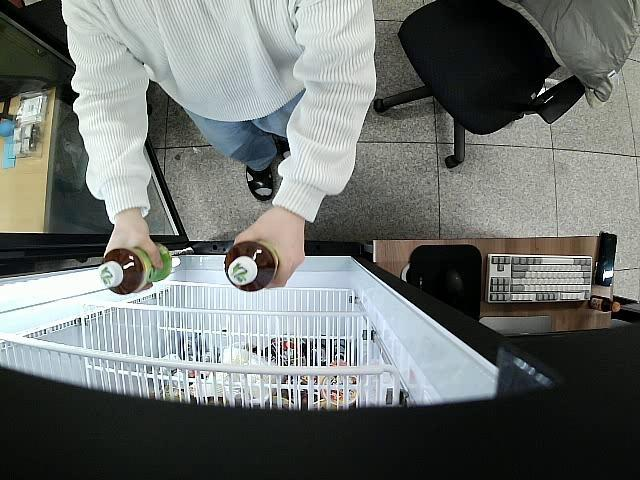19_17cha: (100, 242, 172, 296), (224, 241, 278, 292)
